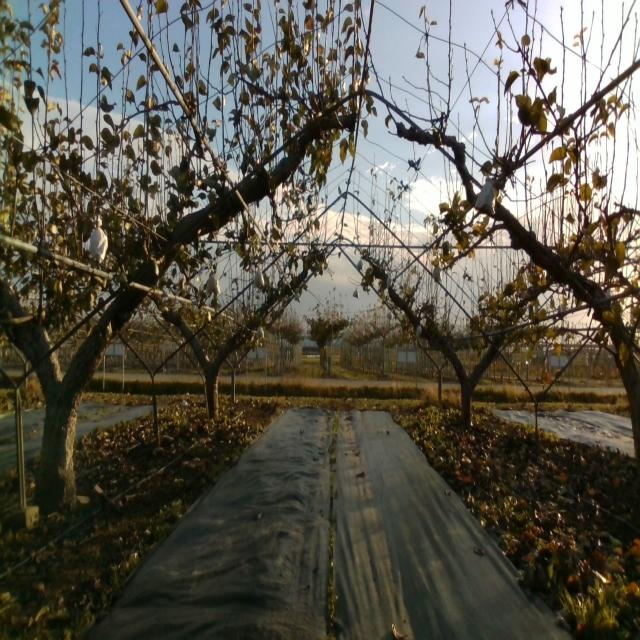pearbags: (474, 177, 498, 214), (89, 217, 106, 262), (205, 270, 220, 294), (252, 268, 267, 288)
